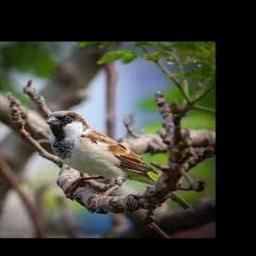Sparrow: (46, 110, 158, 204)
